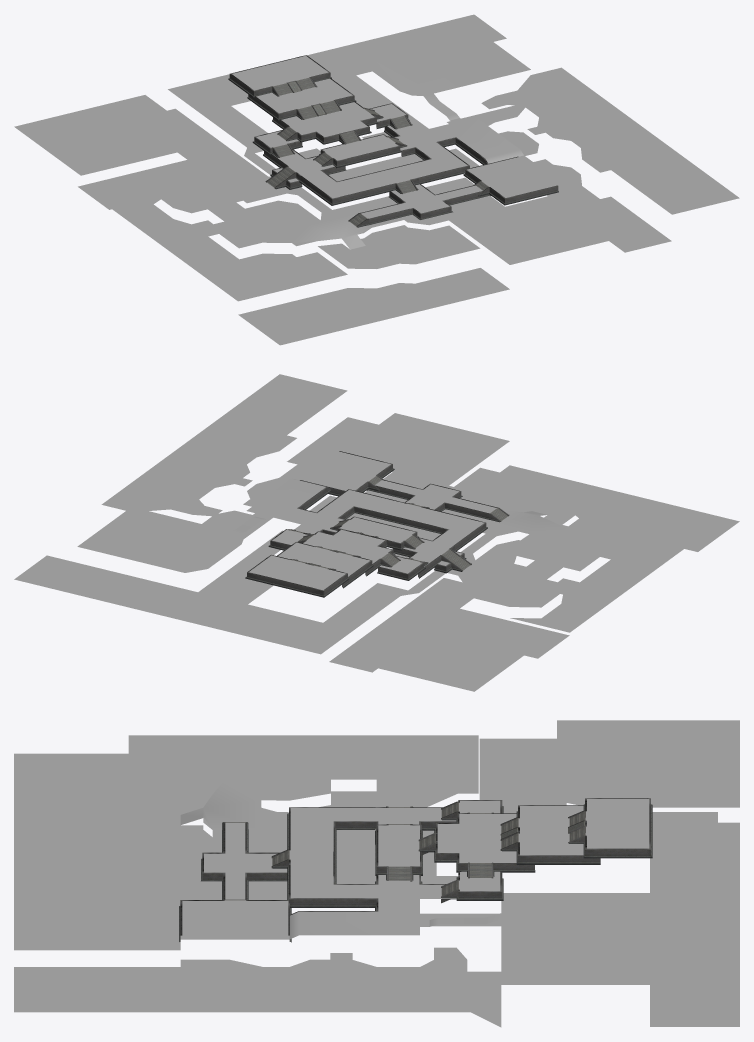
The model's file is NEW_QHXD.fbx.
3 renders of one model, top to bottom at view 1: azimuth 30°, elevation 25°; view 2: azimuth 150°, elevation 25°; view 3: azimuth 270°, elevation 25°, orthographic. The views are drawn at different scales.
Visible parts, largest first — view 1: polySurface4174, polySurface4172, polySurface4170, polySurface4173, polySurface4169, polySurface4171, polySurface4176, polySurface4153, polySurface4177, polySurface4180; view 2: polySurface4174, polySurface4172, polySurface4170, polySurface4173, polySurface4171, polySurface4169, polySurface4176, polySurface4153, polySurface4177, polySurface4180; view 3: polySurface4174, polySurface4172, polySurface4170, polySurface4173, polySurface4171, polySurface4169, polySurface4153, polySurface4180, polySurface4176, polySurface4177.
Boxes of the visible parts, x1,y1,x2,y2 form: polySurface4174: (14, 14, 739, 345); polySurface4172: (232, 56, 482, 218); polySurface4170: (153, 170, 371, 248); polySurface4173: (366, 30, 530, 120); polySurface4169: (318, 225, 480, 268); polySurface4171: (421, 117, 563, 197); polySurface4176: (263, 126, 488, 205); polySurface4153: (252, 102, 412, 168); polySurface4177: (348, 156, 558, 227); polySurface4180: (228, 55, 356, 120); polySurface4174: (14, 374, 739, 691); polySurface4172: (249, 480, 496, 590); polySurface4170: (448, 510, 610, 607); polySurface4173: (77, 507, 265, 572); polySurface4171: (246, 450, 390, 524); polySurface4169: (454, 467, 587, 524); polySurface4176: (297, 487, 487, 578); polySurface4153: (268, 516, 428, 580); polySurface4177: (300, 451, 509, 522); polySurface4180: (245, 542, 373, 597); polySurface4174: (14, 720, 739, 1027); polySurface4172: (204, 799, 649, 899); polySurface4170: (203, 744, 478, 830); polySurface4173: (429, 904, 649, 984); polySurface4171: (180, 899, 429, 939); polySurface4169: (94, 800, 212, 873); polySurface4153: (375, 800, 535, 903); polySurface4180: (500, 798, 652, 883); polySurface4176: (271, 806, 456, 915); polySurface4177: (179, 822, 291, 942).
Bounding box in the file's own units: 238 × 27.86 × 238.
